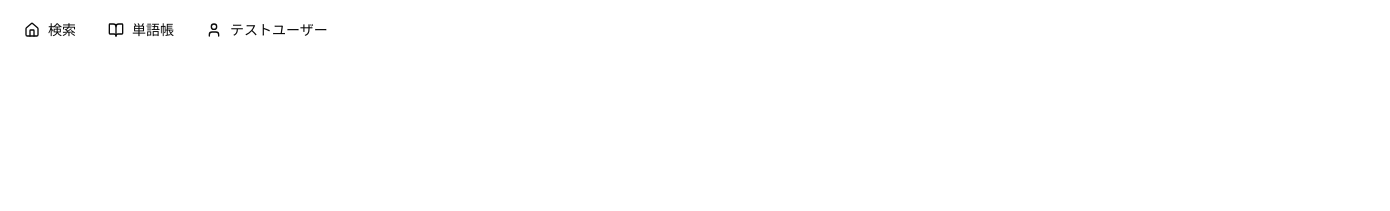
Test case: DesktopNav › ログイン時 › ユーザーメニューを開くとメールアドレスとパスワード変更メニューが表示される
The image size is (1390, 211).
Click the button "テストユーザー" at coordinates (279, 30), box x1=194 y1=12 x2=1378 y2=48
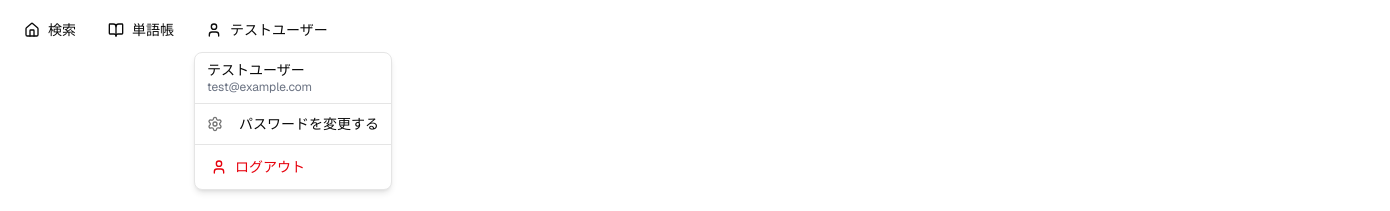
Result: the text "test@example.com" is shown at x1=207 y1=79 x2=312 y2=95
Result: the text "パスワードを変更する" is shown at x1=239 y1=114 x2=379 y2=134
